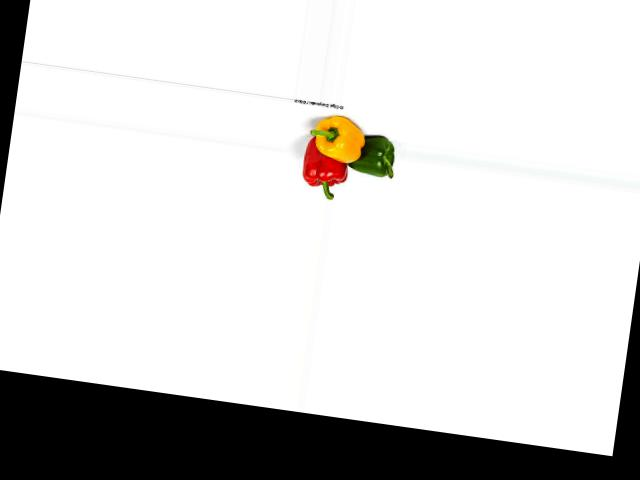bell_pepper: (294, 137, 352, 201)
